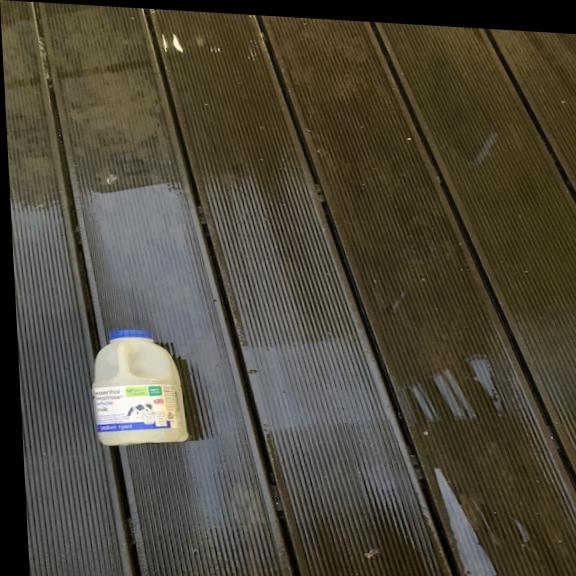Plastik: (86, 325, 191, 453)
